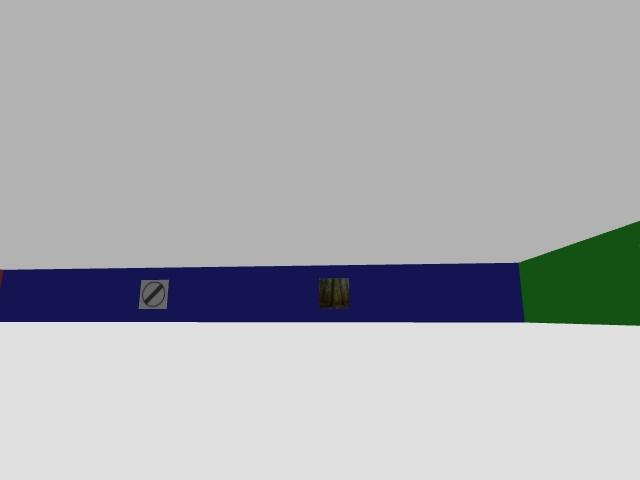fastsign: (138, 279, 168, 309), (139, 280, 168, 308)
tree: (334, 279, 346, 304), (330, 278, 338, 307), (345, 279, 350, 304)
